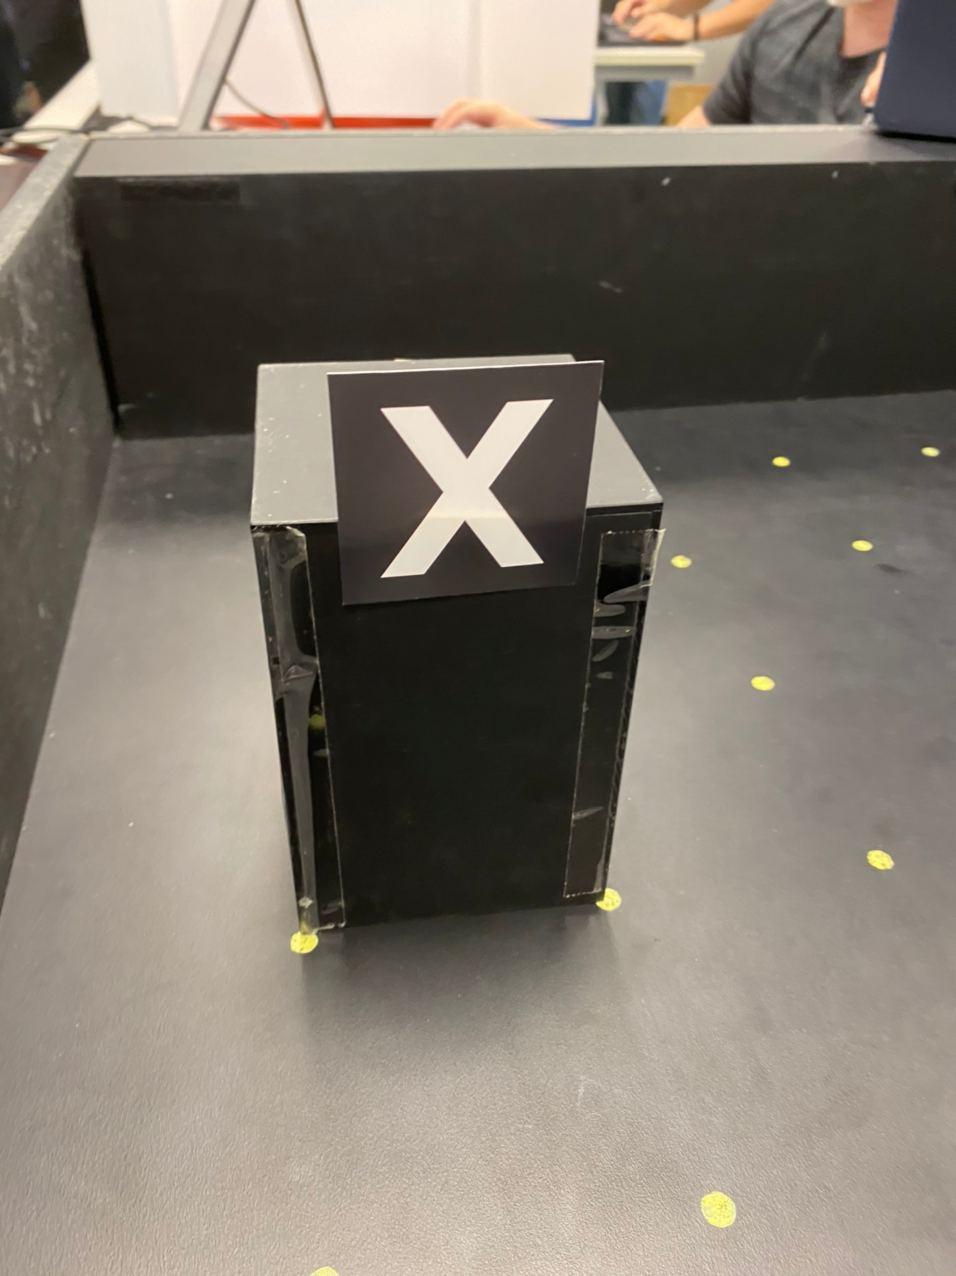x: (364, 393, 565, 585)
